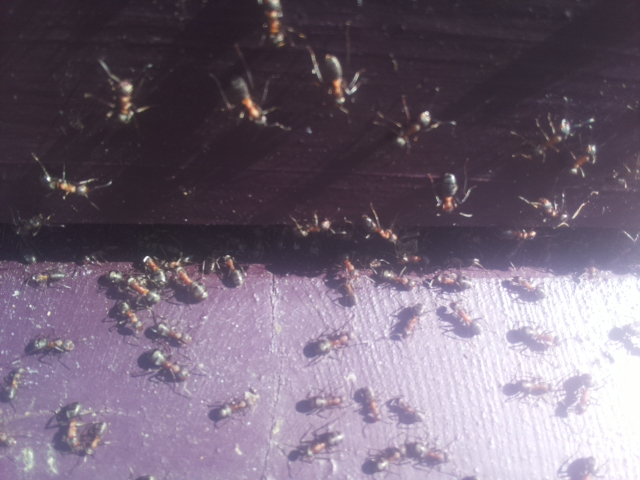ant: (221, 63, 274, 136), (36, 157, 103, 205), (388, 104, 454, 152), (316, 51, 369, 107), (526, 113, 582, 163), (203, 385, 265, 429), (103, 267, 162, 308), (284, 428, 346, 467), (167, 256, 214, 307), (296, 327, 360, 364), (146, 341, 195, 388), (106, 70, 142, 130), (255, 0, 292, 54), (356, 210, 406, 246), (352, 378, 384, 431), (524, 193, 574, 226), (358, 444, 409, 476), (382, 394, 429, 427), (388, 300, 423, 342), (289, 392, 351, 415), (23, 333, 81, 357), (152, 318, 195, 350), (117, 293, 145, 340), (569, 140, 601, 179), (497, 376, 550, 398), (220, 250, 248, 291), (439, 169, 462, 213), (561, 453, 598, 479), (5, 365, 29, 403), (413, 441, 449, 465), (495, 225, 538, 240), (145, 255, 171, 278), (31, 272, 69, 286)
